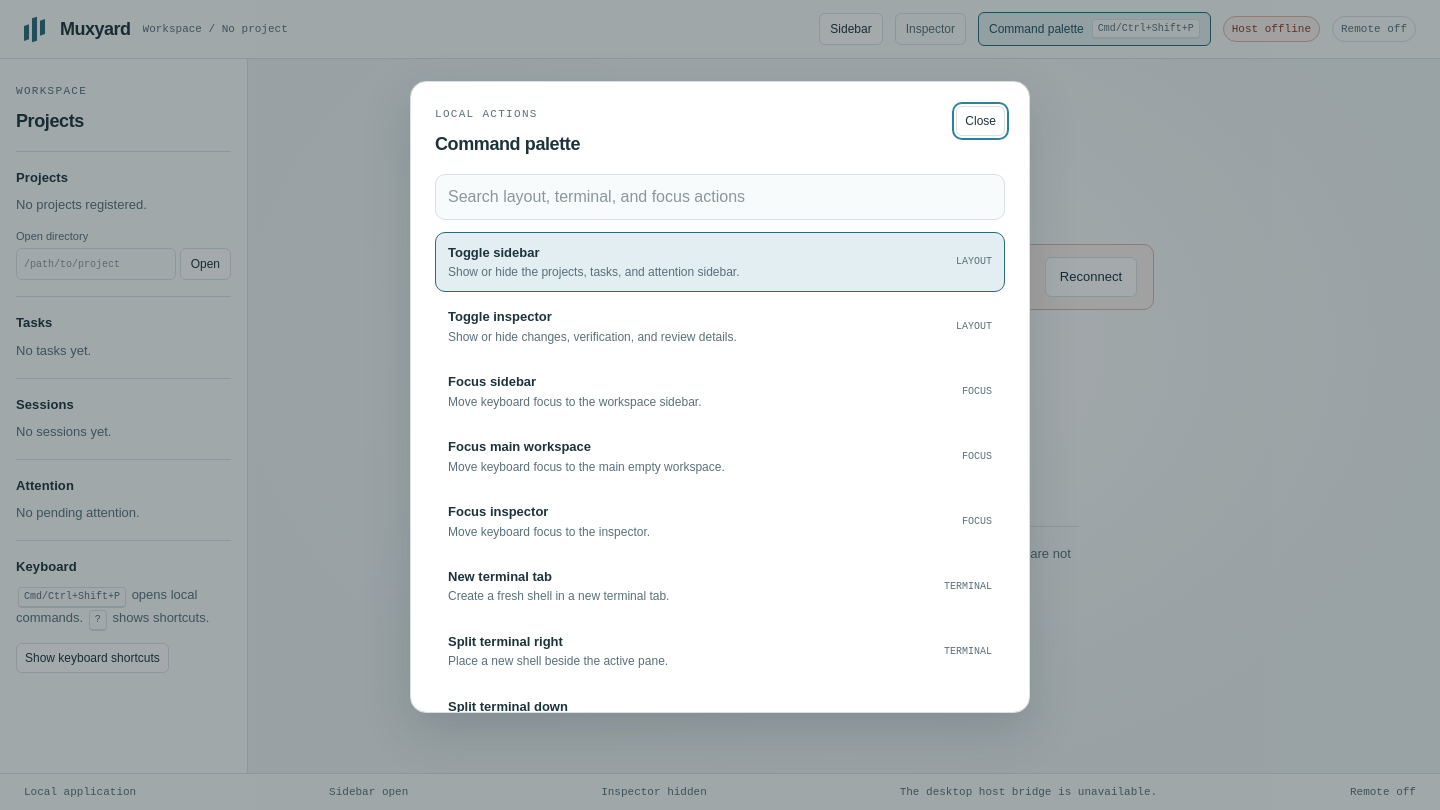
Test case: shell keyboard behavior › does not run a command when Enter activates a dialog button
Press Enter in the button with aria-label "Close command palette", box [956, 106, 1005, 136]
Expected: the dropdown with id "command-palette-input" is shown, [435, 174, 1005, 220]
Expected: the element with id "workspace-sidebar" is shown, [0, 59, 248, 772]
Click the button with aria-label "Close command palette".
click(981, 121)  # box [956, 106, 1005, 136]
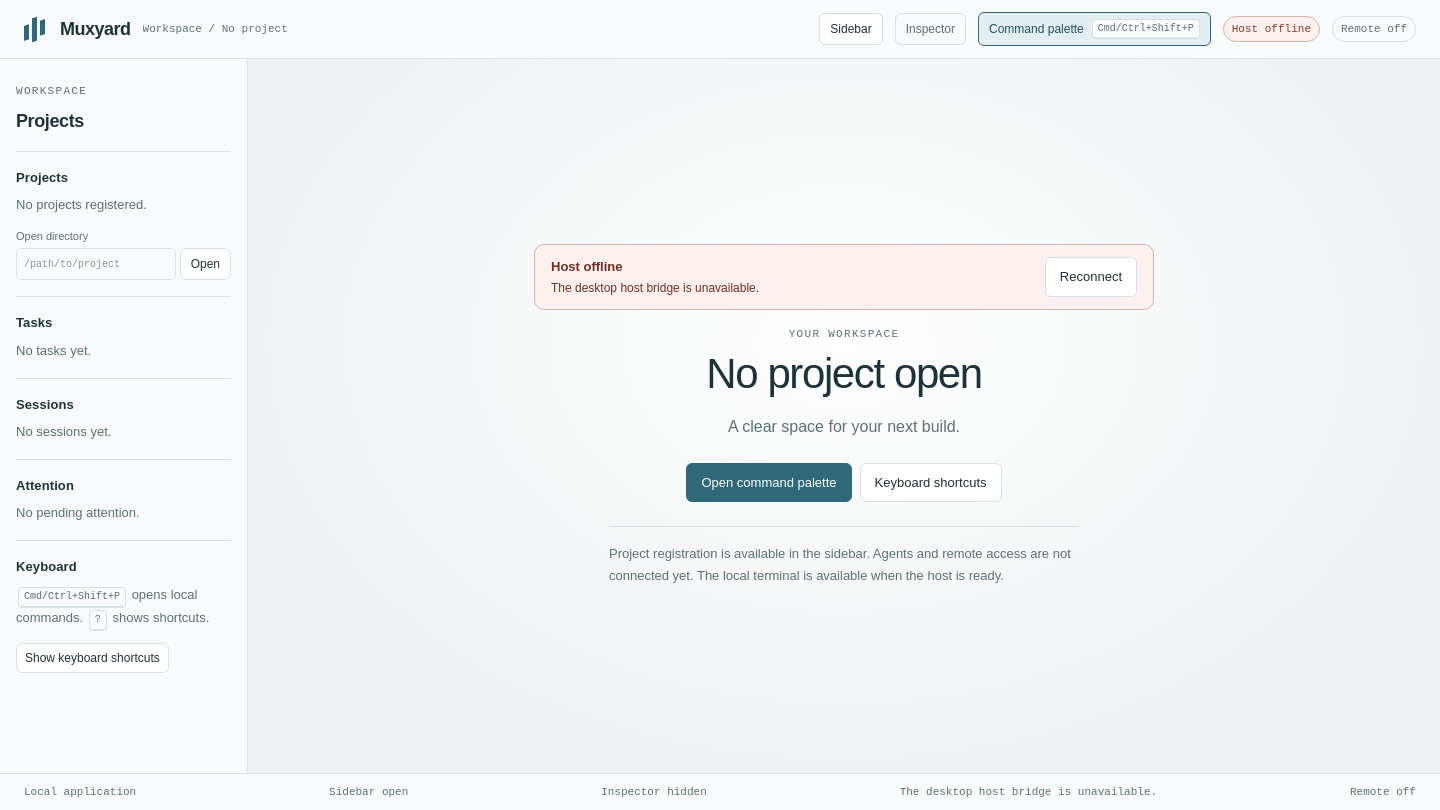
Now the dropdown with id "command-palette-input" is gone
